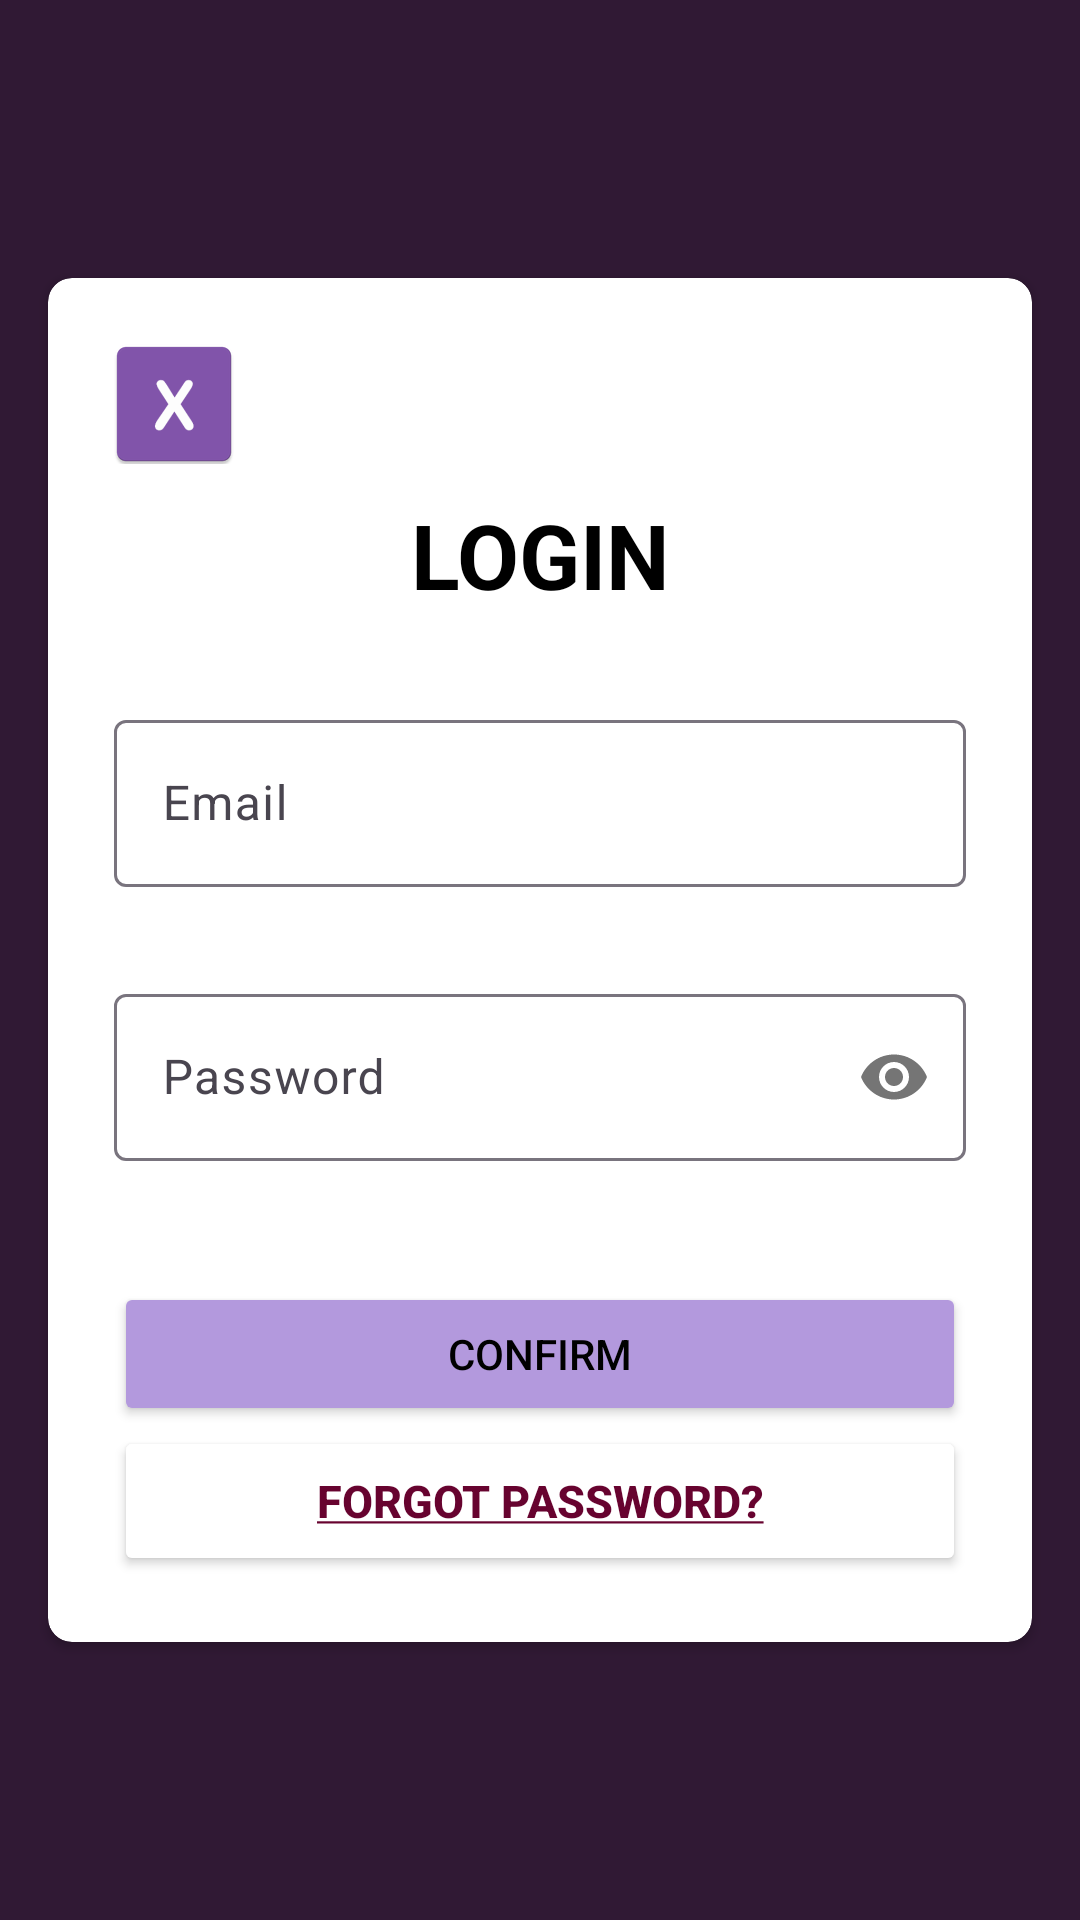

Icons on this 1080px x 1920px Android screen, each with the point to tap as (x,y):
A button to return to previous page: (174,405)
